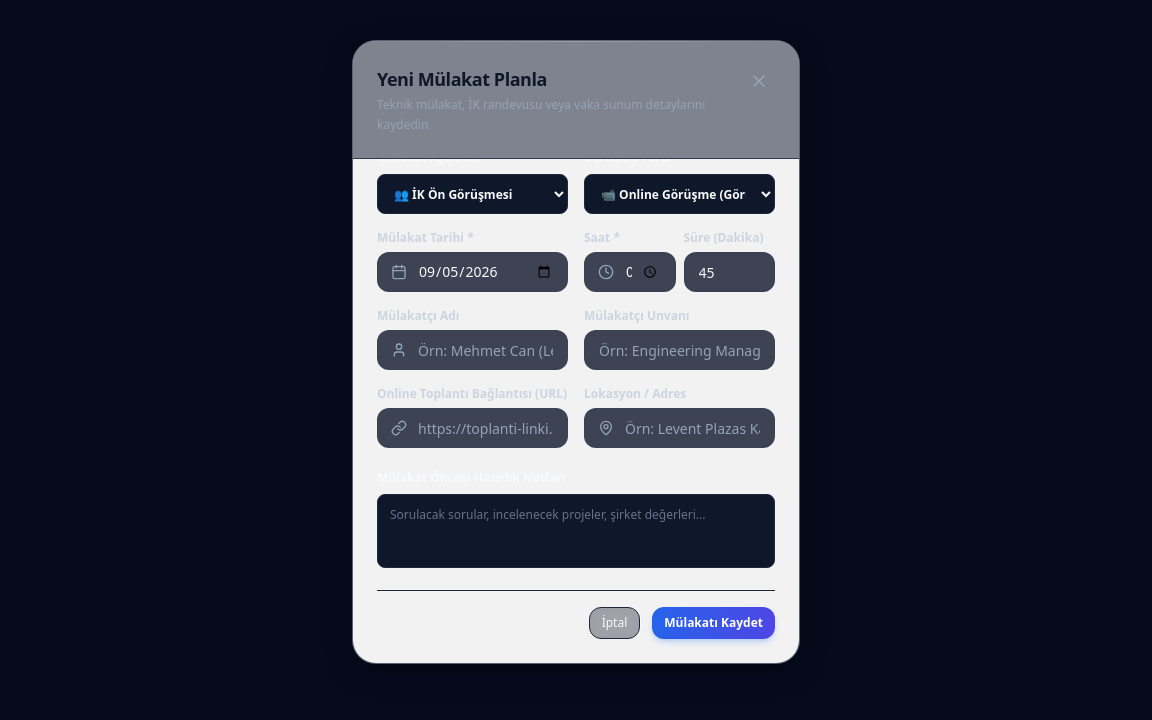
Test: CreateInterviewModal Component › validates required fields on empty submit
(page scrolled)
Click the button "Mülakatı Kaydet": (714, 623) x1=652 y1=607 x2=775 y2=639
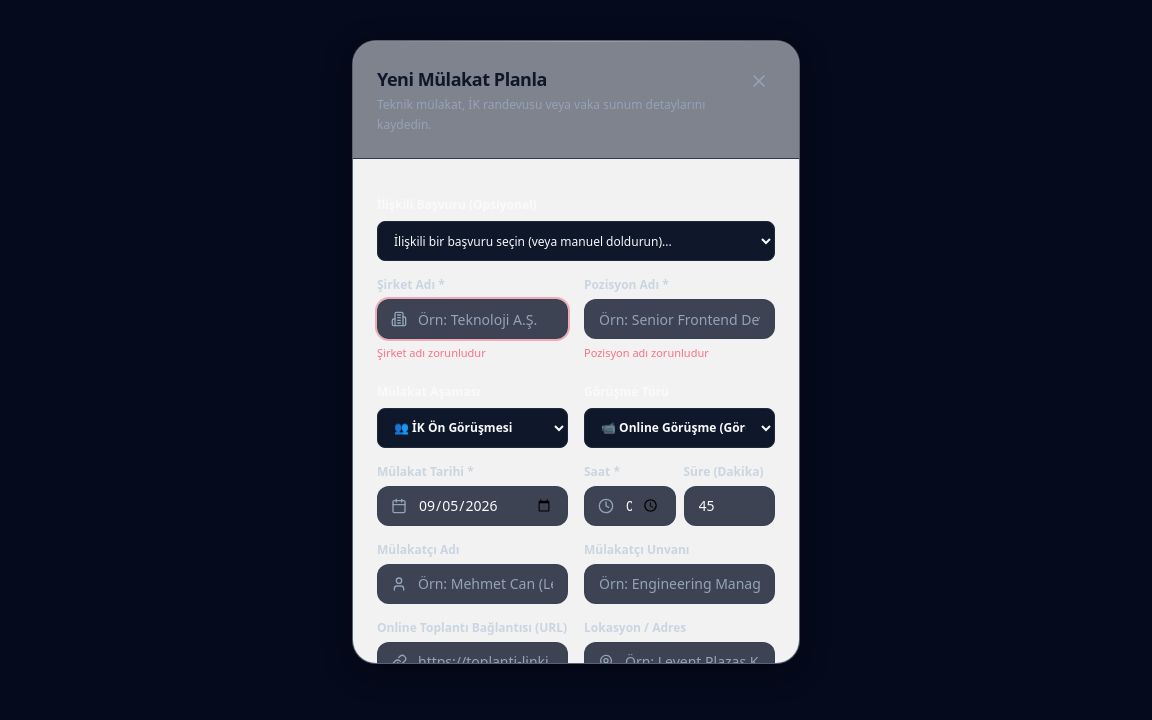
Now the text "Şirket adı zorunludur" is shown, box x1=377 y1=345 x2=486 y2=360
Now the text "Pozisyon adı zorunludur" is shown, box x1=584 y1=345 x2=709 y2=360
